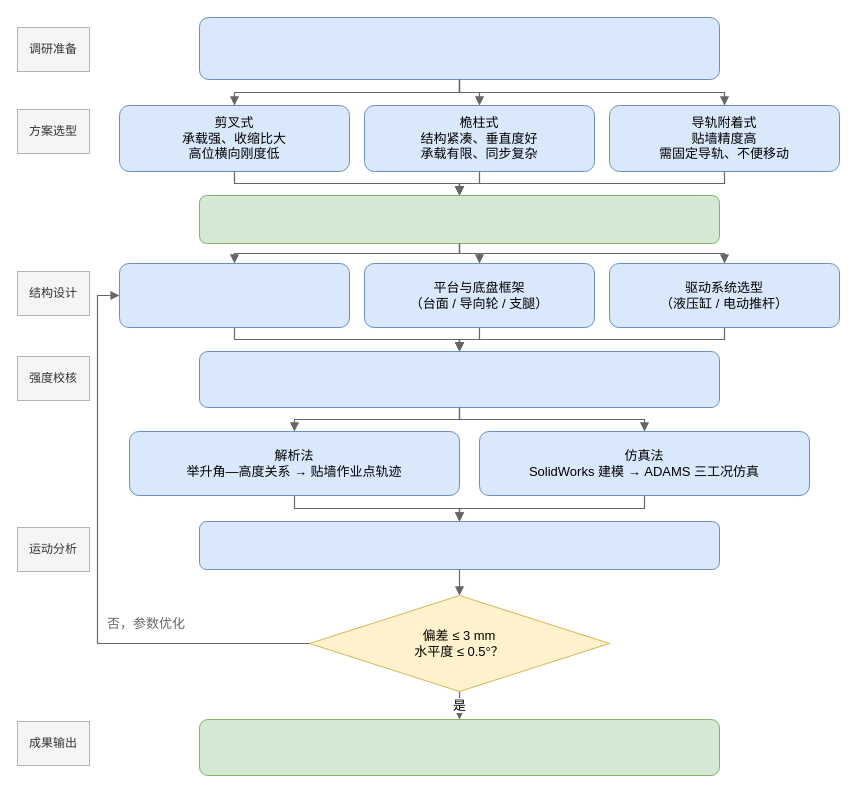
The diagram is 857 pixels wide and 793 high, and some of its shapes have lost their labels. Here are the shapes that lost their labels. From the top down, the centre of each, then its label:
At [459,48]: "资料调研与工况分析 （16 篇文献 · 抹灰标准 · 室内受限空间工况）".
At [459,219]: "确定方案：剪叉式主体 + 贴墙导向轮 + 四角螺旋调平支腿".
At [234,295]: "剪叉机构设计 （层数 / 臂长 / 铰点）".
At [459,379]: "关键件强度校核 （剪叉臂 · 销轴 · 纵梁；满载 + 单侧偏载 + 贴墙顶紧）".
At [459,545]: "解析与仿真结果互校，确定平台位姿偏差规律".
At [459,747]: "绘制装配图与零件图 撰写设计说明书，准备答辩".
